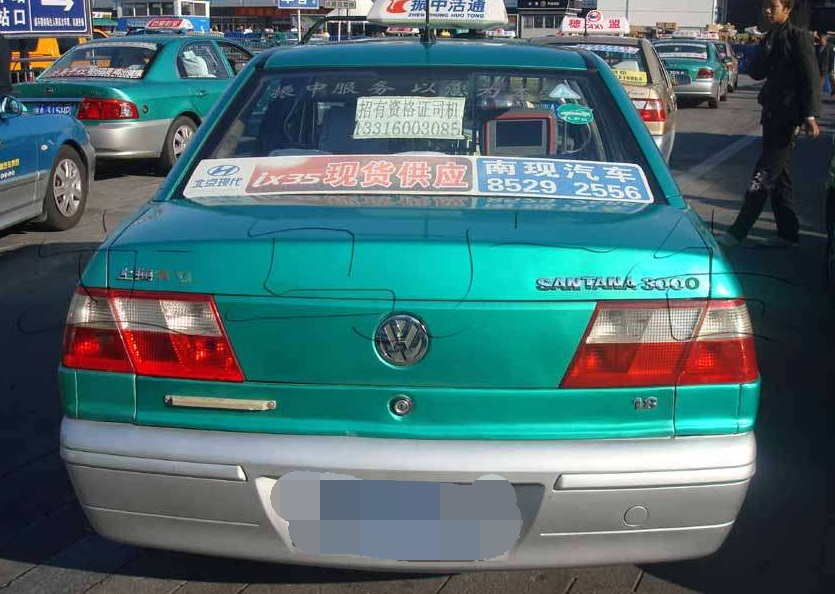taxi: (53, 6, 766, 567)
